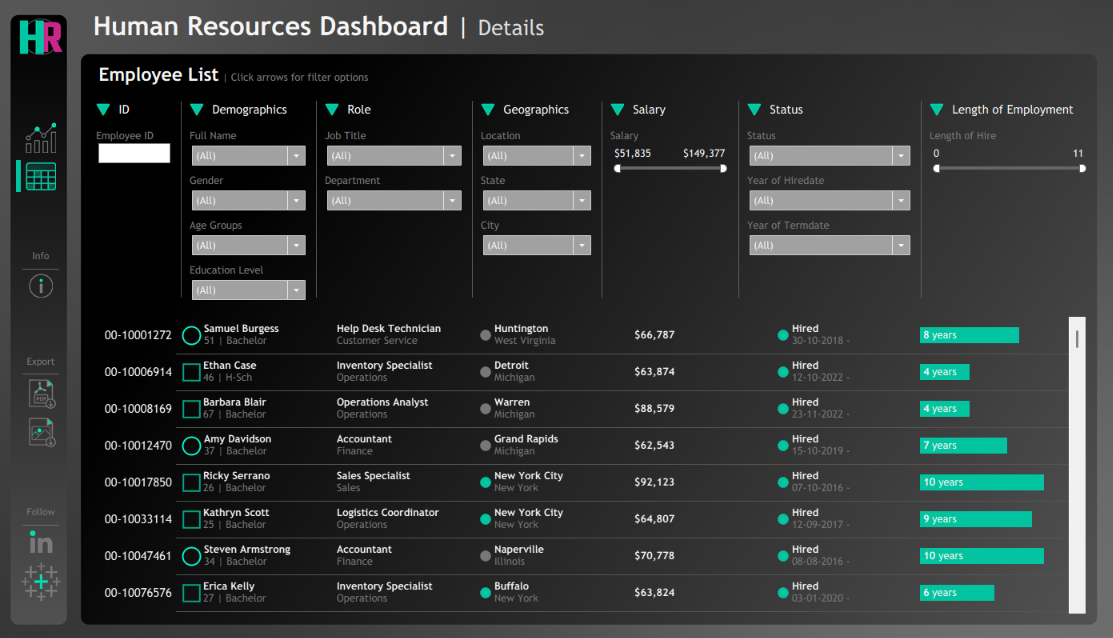

What the dashboard file says about the page in this screenshot:
{"tool":"tableau","page":{"name":"HR | Details","canvas":[1400,800],"ordinal":0},"visuals":[{"type":"image","param":"Image/background dashbaord details.png","box":[0,0,1400,800]},{"type":"text","box":[116,0,680,70]},{"type":"blank","box":[796,0,584,70]},{"type":"image","param":"Image/Logo.png","box":[20,20,76,55]},{"type":"text","box":[123,77,1250,41]},{"type":"blank","box":[30,85,56,70]},{"type":"dashboard-object","box":[123,118,25,42]},{"type":"text","box":[148,118,79,42]},{"type":"blank","box":[227,118,13,42]},{"type":"dashboard-object","box":[240,118,25,42]},{"type":"text","box":[265,118,131,42]},{"type":"blank","box":[396,118,13,42]},{"type":"dashboard-object","box":[409,118,25,42]},{"type":"text","box":[434,118,157,42]},{"type":"blank","box":[591,118,13,42]},{"type":"dashboard-object","box":[604,118,25,42]},{"type":"text","box":[629,118,124,42]},{"type":"blank","box":[753,118,13,42]},{"type":"dashboard-object","box":[766,118,25,42]},{"type":"text","box":[791,118,133,42]},{"type":"blank","box":[924,118,13,42]},{"type":"dashboard-object","box":[937,118,25,42]},{"type":"text","box":[962,118,190.5,42]},{"type":"blank","box":[1152.5,118,13,42]},{"type":"dashboard-object","box":[1165.5,118,25,42]},{"type":"text","box":[1190.5,118,182.5,42]},{"type":"dashboard-object","box":[30,155,56,38]},{"type":"filter","title":"Detailed","param":"[federated.0pz6kx91ug9r3u15b9i5f1b2l6rp].[none:Employee_ID:nk]","box":[117,160,104,53]},{"type":"filter","title":"Detailed","param":"[federated.0pz6kx91ug9r3u15b9i5f1b2l6rp].[none:Calculation_0798859367792666:nk]","box":[234,160,156,56]},{"type":"filter","title":"Detailed","param":"[federated.0pz6kx91ug9r3u15b9i5f1b2l6rp].[none:Job Title:nk]","box":[403,160,182,56]},{"type":"filter","title":"Detailed","param":"[federated.0pz6kx91ug9r3u15b9i5f1b2l6rp].[none:Calculation_0798857906548741:nk]","box":[598,160,149,56]},{"type":"filter","title":"Detailed","param":"[federated.0pz6kx91ug9r3u15b9i5f1b2l6rp].[sum:Salary:qk]","box":[760,160,158,68]},{"type":"filter","title":"Detailed","param":"[federated.0pz6kx91ug9r3u15b9i5f1b2l6rp].[none:Calculation_0798858696691723:nk]","box":[931,160,218.5,56]},{"type":"filter","title":"Detailed","param":"[federated.0pz6kx91ug9r3u15b9i5f1b2l6rp].[sum:Calculation_0798859372707868:qk]","box":[1162.5,160,210.5,68]},{"type":"worksheet","title":"Detailed","mark":"Shape","rows":["Employee_ID"],"cols":["Calculation_0798859365990425","Calculation_0798859365990425","Calculation_0798859365990425","Calculation_0798859365990425","Calculation_0798859365990425","Calculation_0798859372707868"],"box":[123,170,1250,603]},{"type":"blank","box":[30,193,56,10]},{"type":"blank","box":[27,202,6,40]},{"type":"dashboard-object","box":[30,203,56,38]},{"type":"filter","title":"Detailed","param":"[federated.0pz6kx91ug9r3u15b9i5f1b2l6rp].[none:Gender:nk]","box":[234,216,156,56]},{"type":"filter","title":"Detailed","param":"[federated.0pz6kx91ug9r3u15b9i5f1b2l6rp].[none:Department:nk]","box":[403,216,182,56]},{"type":"filter","title":"Detailed","param":"[federated.0pz6kx91ug9r3u15b9i5f1b2l6rp].[none:State:nk]","box":[598,216,149,56]},{"type":"filter","title":"Detailed","param":"[federated.0pz6kx91ug9r3u15b9i5f1b2l6rp].[yr:Hiredate:ok]","box":[931,216,218.5,56]},{"type":"text","box":[90,228,1310,305]},{"type":"blank","box":[30,241,56,70]},{"type":"filter","title":"Detailed","param":"[federated.0pz6kx91ug9r3u15b9i5f1b2l6rp].[none:Calculation_0798857952165898:nk]","box":[234,272,156,56]},{"type":"filter","title":"Detailed","param":"[federated.0pz6kx91ug9r3u15b9i5f1b2l6rp].[none:City:nk]","box":[598,272,149,56]},{"type":"filter","title":"Detailed","param":"[federated.0pz6kx91ug9r3u15b9i5f1b2l6rp].[yr:Termdate:ok]","box":[931,272,218.5,56]},{"type":"text","box":[30,311,56,22]},{"type":"filter","title":"Detailed","param":"[federated.0pz6kx91ug9r3u15b9i5f1b2l6rp].[none:Education Level:nk]","box":[234,328,156,56]},{"type":"blank","box":[30,333,56,11]},{"type":"dashboard-object","box":[30,344,56,30]},{"type":"blank","box":[30,374,56,70]},{"type":"text","box":[30,444,56,20]},{"type":"blank","box":[30,464,56,11]},{"type":"dashboard-object","box":[30,475,56,38]},{"type":"blank","box":[30,513,56,10]},{"type":"dashboard-object","box":[30,523,56,38]},{"type":"blank","box":[30,561,56,70]},{"type":"text","box":[30,631,56,22]},{"type":"blank","box":[30,653,56,11]},{"type":"image","param":"Image/contact-linkedin.png","box":[30,664,56,30]},{"type":"blank","box":[30,694,56,10]},{"type":"image","param":"Image/contact-public.png","box":[30,704,56,50]}]}

Visuals, with their boxes on the page's 1400x800 design canvas (x1, y1, x2, y2). These are canvas units, not pixel positions in the 1113x638 screenshot, which may show the page scaled, cropped or inside an application window:
image: crop(0, 0, 1400, 800)
text: crop(116, 0, 796, 70)
blank: crop(796, 0, 1380, 70)
image: crop(20, 20, 96, 75)
text: crop(123, 77, 1373, 118)
blank: crop(30, 85, 86, 155)
dashboard-object: crop(123, 118, 148, 160)
text: crop(148, 118, 227, 160)
blank: crop(227, 118, 240, 160)
dashboard-object: crop(240, 118, 265, 160)
text: crop(265, 118, 396, 160)
blank: crop(396, 118, 409, 160)
dashboard-object: crop(409, 118, 434, 160)
text: crop(434, 118, 591, 160)
blank: crop(591, 118, 604, 160)
dashboard-object: crop(604, 118, 629, 160)
text: crop(629, 118, 753, 160)
blank: crop(753, 118, 766, 160)
dashboard-object: crop(766, 118, 791, 160)
text: crop(791, 118, 924, 160)
blank: crop(924, 118, 937, 160)
dashboard-object: crop(937, 118, 962, 160)
text: crop(962, 118, 1152, 160)
blank: crop(1152, 118, 1166, 160)
dashboard-object: crop(1166, 118, 1190, 160)
text: crop(1190, 118, 1373, 160)
dashboard-object: crop(30, 155, 86, 193)
"Detailed" filter: crop(117, 160, 221, 213)
"Detailed" filter: crop(234, 160, 390, 216)
"Detailed" filter: crop(403, 160, 585, 216)
"Detailed" filter: crop(598, 160, 747, 216)
"Detailed" filter: crop(760, 160, 918, 228)
"Detailed" filter: crop(931, 160, 1150, 216)
"Detailed" filter: crop(1162, 160, 1373, 228)
"Detailed" worksheet (Shape marks): crop(123, 170, 1373, 773)
blank: crop(30, 193, 86, 203)
blank: crop(27, 202, 33, 242)
dashboard-object: crop(30, 203, 86, 241)
"Detailed" filter: crop(234, 216, 390, 272)
"Detailed" filter: crop(403, 216, 585, 272)
"Detailed" filter: crop(598, 216, 747, 272)
"Detailed" filter: crop(931, 216, 1150, 272)
text: crop(90, 228, 1400, 533)
blank: crop(30, 241, 86, 311)
"Detailed" filter: crop(234, 272, 390, 328)
"Detailed" filter: crop(598, 272, 747, 328)
"Detailed" filter: crop(931, 272, 1150, 328)
text: crop(30, 311, 86, 333)
"Detailed" filter: crop(234, 328, 390, 384)
blank: crop(30, 333, 86, 344)
dashboard-object: crop(30, 344, 86, 374)
blank: crop(30, 374, 86, 444)
text: crop(30, 444, 86, 464)
blank: crop(30, 464, 86, 475)
dashboard-object: crop(30, 475, 86, 513)
blank: crop(30, 513, 86, 523)
dashboard-object: crop(30, 523, 86, 561)
blank: crop(30, 561, 86, 631)
text: crop(30, 631, 86, 653)
blank: crop(30, 653, 86, 664)
image: crop(30, 664, 86, 694)
blank: crop(30, 694, 86, 704)
image: crop(30, 704, 86, 754)
